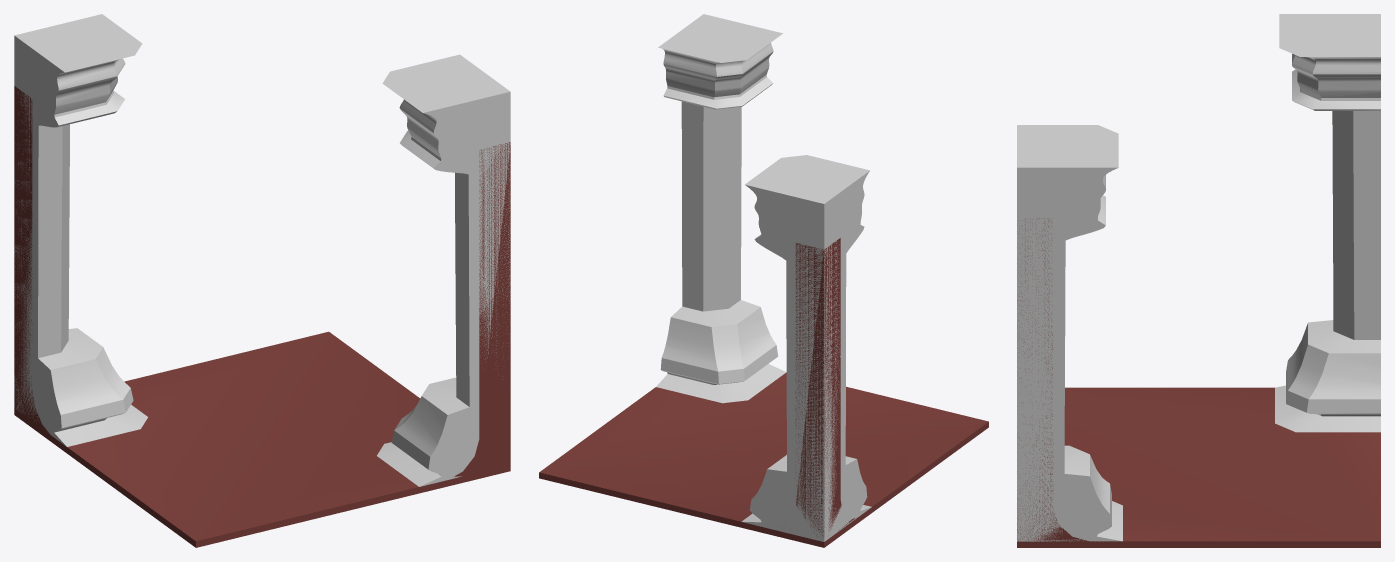
File: Tileset_Piece_119.fbx
The picture shows the model from 3 angles, left to right: view 1: azimuth 30°, elevation 25°; view 2: azimuth 150°, elevation 25°; view 3: azimuth 270°, elevation 25°; orthographic projection. The views are drawn at different scales.
Visible parts, largest first — view 1: Tileset_Piece_119; view 2: Tileset_Piece_119; view 3: Tileset_Piece_119.
Part boxes in pixels (left/top/right/bottom): Tileset_Piece_119: left=14, top=14, right=510, bottom=547; Tileset_Piece_119: left=539, top=14, right=988, bottom=547; Tileset_Piece_119: left=1017, top=14, right=1380, bottom=547.
Size of the model in its own units: 100 by 115 by 100.
